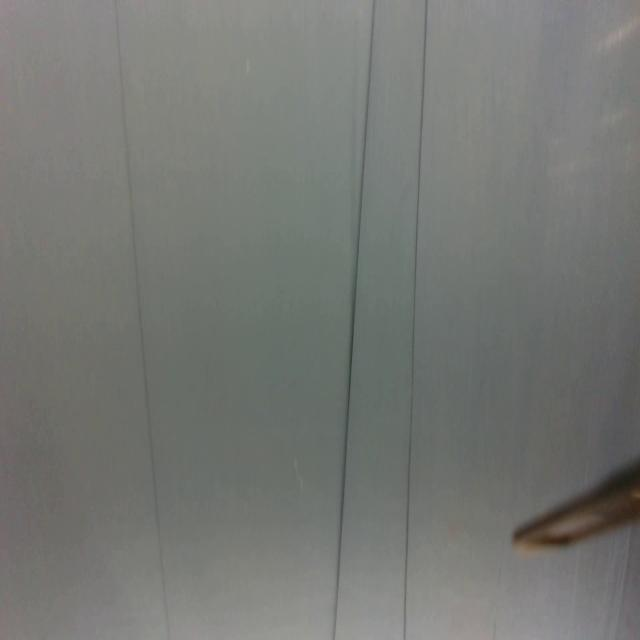crease: (114, 0, 171, 640), (331, 0, 376, 639), (401, 0, 430, 640)
